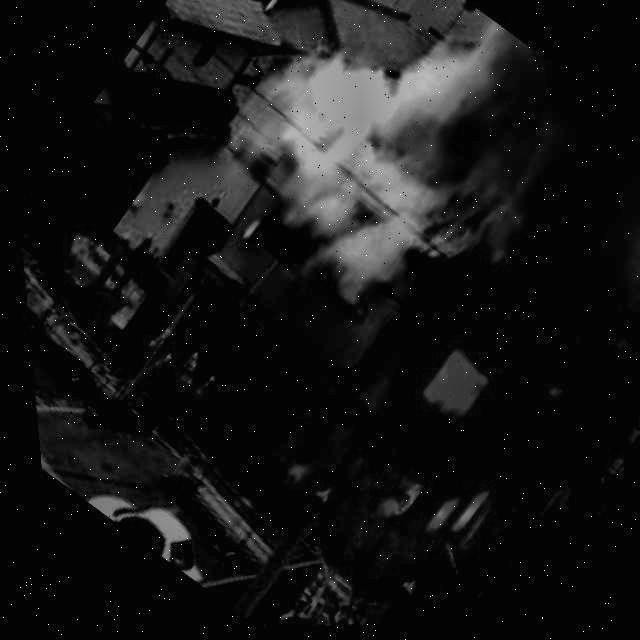Fire: (240, 256, 612, 627), (291, 245, 377, 325)
Smoke: (240, 256, 612, 627), (300, 251, 376, 324)
